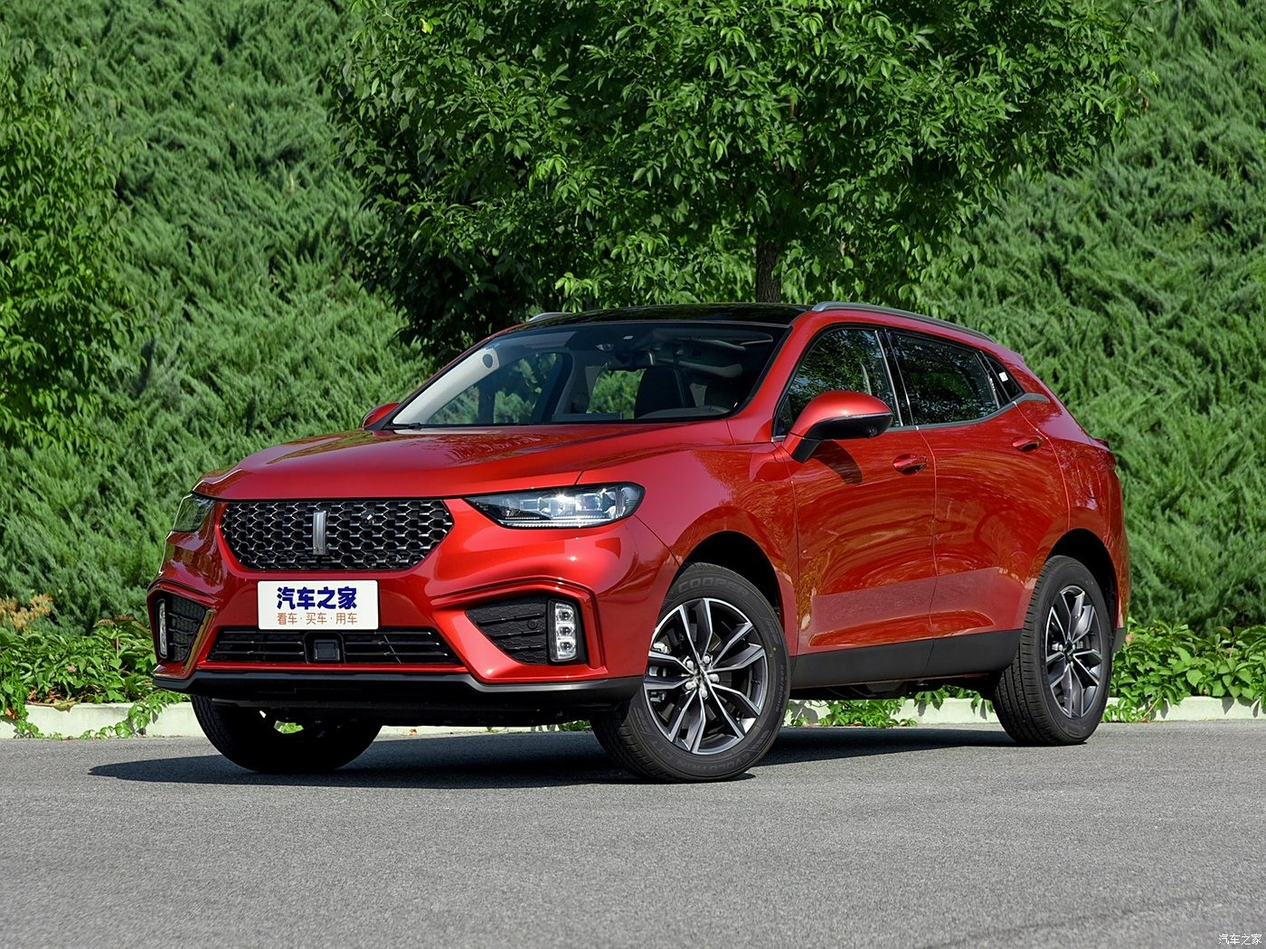WEY: (314, 512, 323, 554)
